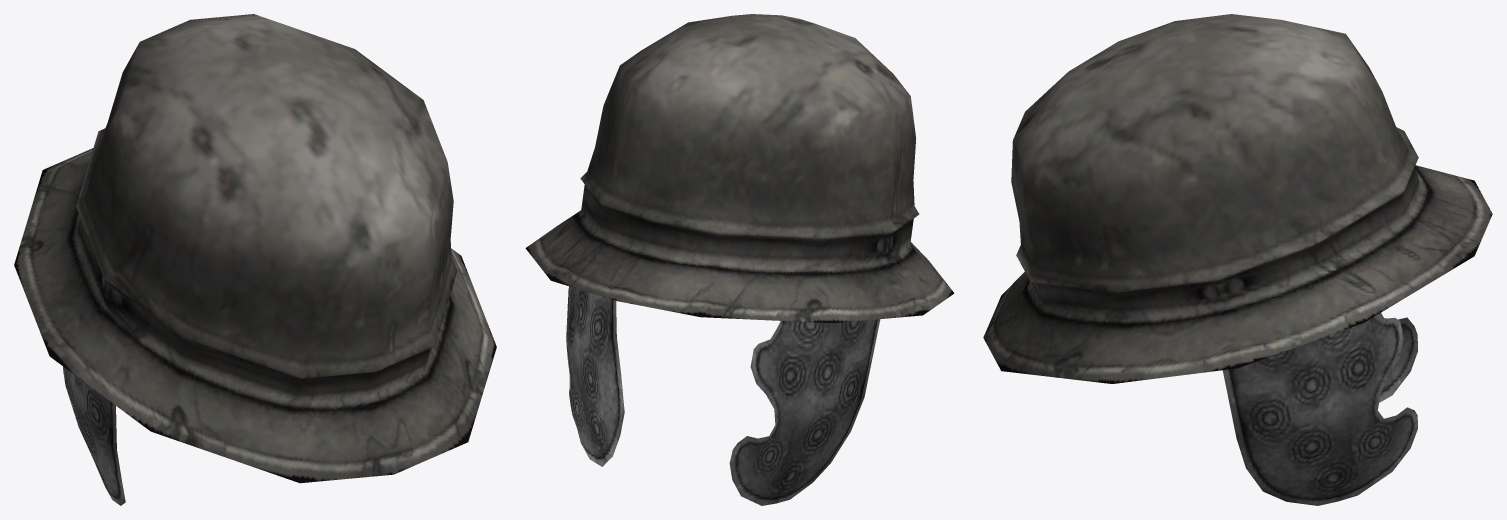
File: helm_celt_helmet_alesia_03.glb
3 views of the same model, side by side, from view 1: azimuth 30°, elevation 25°; view 2: azimuth 150°, elevation 25°; view 3: azimuth 270°, elevation 25° (orthographic). The views are drawn at different scales.
Parts seen in each view (by area): view 1: helm_celt_helmet_alesia_03_part0; view 2: helm_celt_helmet_alesia_03_part0; view 3: helm_celt_helmet_alesia_03_part0.
Boxes of the visible parts, <box> form: helm_celt_helmet_alesia_03_part0: <box>14,14,496,505</box>; helm_celt_helmet_alesia_03_part0: <box>525,14,954,505</box>; helm_celt_helmet_alesia_03_part0: <box>983,14,1492,505</box>.
Bounding box in the file's own units: 0.5955 × 0.6429 × 0.6933.
Materials: 1 (1 with a texture image).
